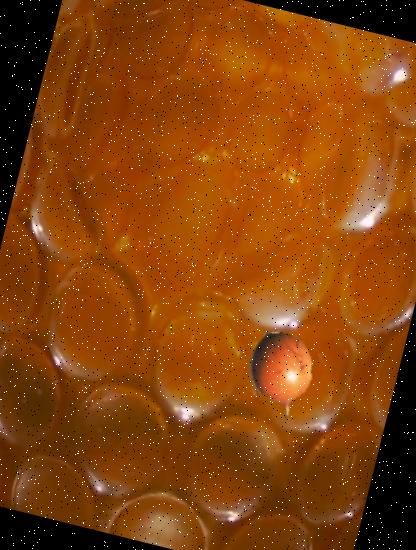Granadilla: (227, 322, 335, 430)
